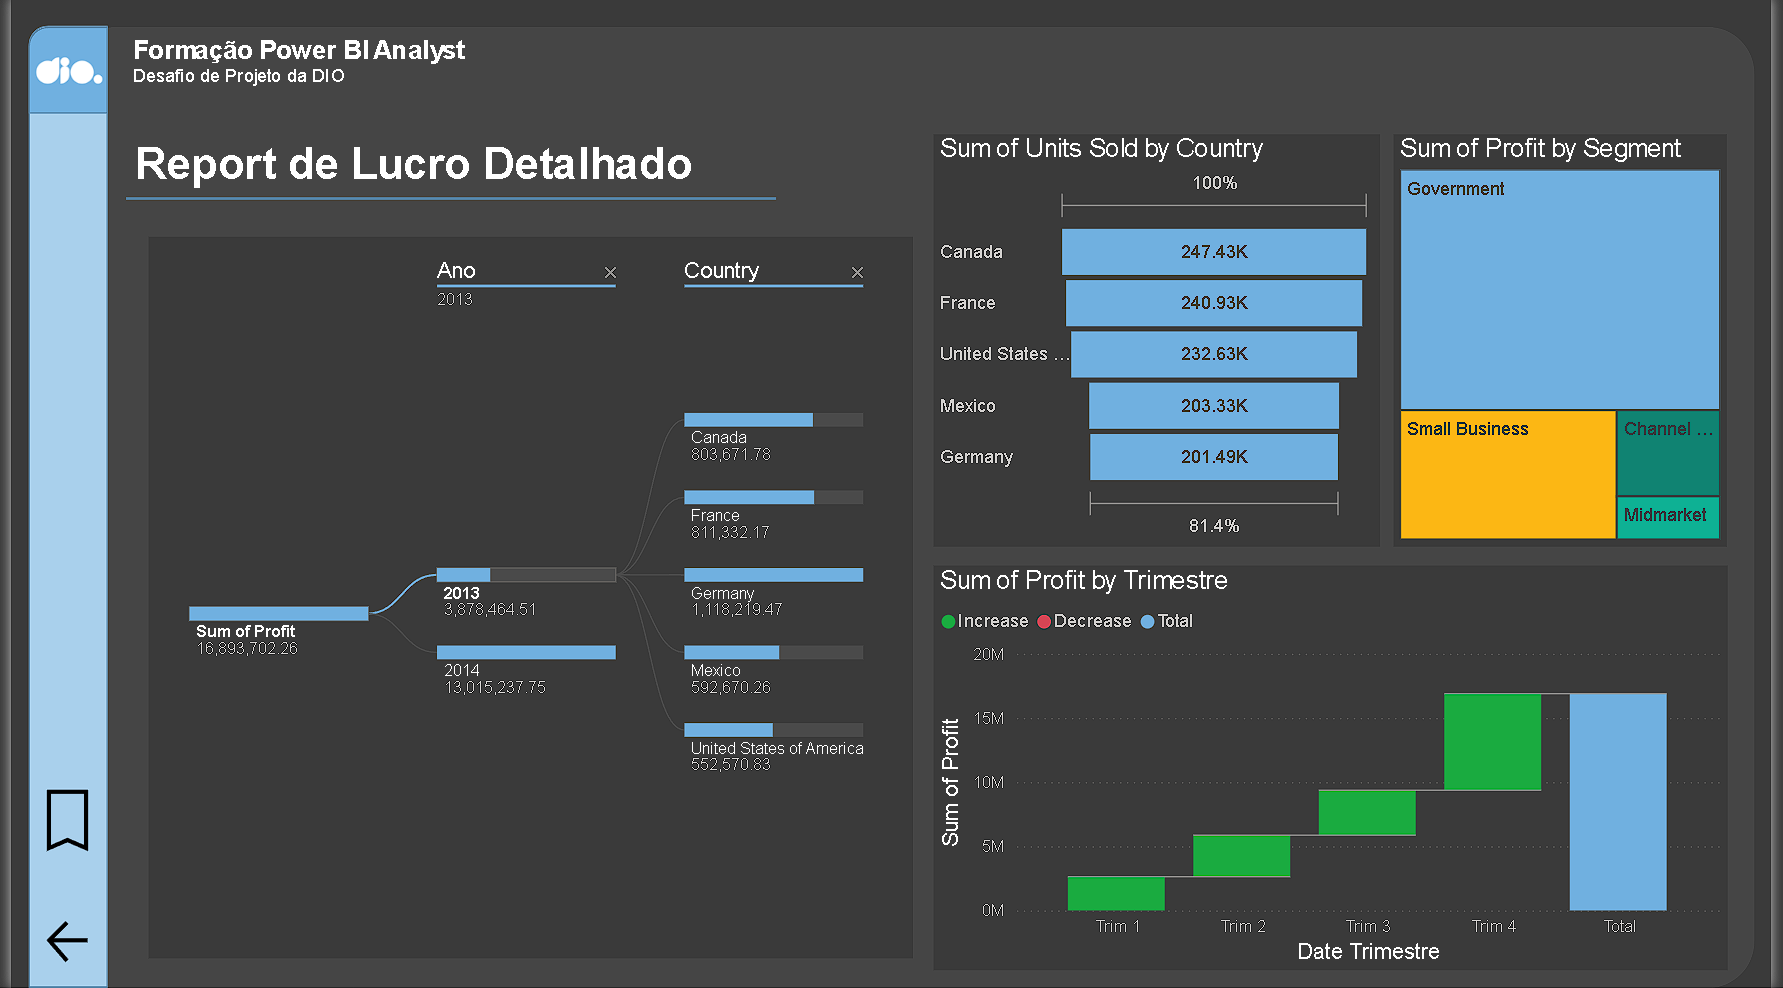

This screenshot's page, from the dashboard's own definition file:
{"tool":"powerbi","page":{"name":"Página 2","canvas":[1280,720],"ordinal":1},"visuals":[{"type":"shape","box":[42.6,20.7,1225.3,699.3],"z":0},{"type":"shape","box":[83.9,127.8,473,37.1],"z":0,"group":"g1"},{"type":"textbox","box":[85.3,97.6,470.2,52.2],"z":1000,"group":"g1"},{"type":"shape","box":[12.4,20.2,57.7,699.8],"z":1000},{"type":"shape","box":[12.4,20.6,57.7,63.2],"z":2000},{"type":"image","box":[13.7,33,57.7,39.9],"z":3000},{"type":"textbox","title":"Título do report","box":[83.9,22,378.1,63.2],"z":5000},{"type":"decompositionTreeVisual","fields":{"Analyze":["Sum(financials.Profit)"],"ExplainBy":["financials.Date.Variation.Hierarquia de datas.Ano","financials.Country"]},"box":[100,173.8,555.8,524.8],"z":7000},{"type":"waterfallChart","fields":{"Category":["financials.Date.Variation.Hierarquia de datas.Trimestre"],"Y":["Sum(financials.Profit)"]},"box":[670.9,412.5,577.4,294.2],"z":8000},{"type":"treemap","fields":{"Values":["Sum(financials.Profit)"],"Group":["financials.Segment"]},"box":[1005.6,98.8,242.8,299.9],"z":11000},{"type":"actionButton","box":[22,666.8,48.1,39.9],"z":12000},{"type":"group","id":"g1","title":"Sales report","box":[83.9,97.6,473,67.4],"z":13000},{"type":"actionButton","box":[12.8,545.8,57,105.5],"z":14000},{"type":"funnel","fields":{"Category":["financials.Country"],"Y":["Sum(financials.Units Sold)"]},"box":[671.2,98.8,324.9,299.9],"z":14001}]}

Visuals, with their boxes in screenshot pixels (x1, y1, x2, y2), scaled from the page's 1280x720 canvas onto the 1783x988 screenshot:
shape: pyautogui.locateOnScreen(59, 28, 1766, 987)
shape: pyautogui.locateOnScreen(117, 175, 776, 226)
textbox: pyautogui.locateOnScreen(119, 134, 774, 206)
shape: pyautogui.locateOnScreen(17, 28, 98, 987)
shape: pyautogui.locateOnScreen(17, 28, 98, 115)
image: pyautogui.locateOnScreen(19, 45, 99, 100)
"Título do report" textbox: pyautogui.locateOnScreen(117, 30, 644, 117)
decompositionTreeVisual - Sum(financials.Profit) x financials.Date.Variation.Hierarquia de datas.Ano: pyautogui.locateOnScreen(139, 238, 914, 959)
waterfallChart - financials.Date.Variation.Hierarquia de datas.Trimestre x Sum(financials.Profit): pyautogui.locateOnScreen(935, 566, 1739, 970)
treemap - Sum(financials.Profit) x financials.Segment: pyautogui.locateOnScreen(1401, 136, 1739, 547)
actionButton: pyautogui.locateOnScreen(31, 915, 98, 970)
"Sales report" group: pyautogui.locateOnScreen(117, 134, 776, 226)
actionButton: pyautogui.locateOnScreen(18, 749, 97, 894)
funnel - financials.Country x Sum(financials.Units Sold): pyautogui.locateOnScreen(935, 136, 1388, 547)
